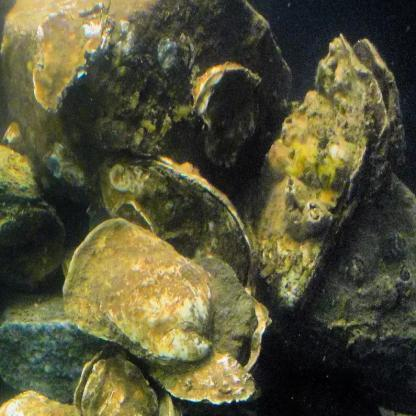3: (102, 154, 252, 289), (189, 62, 260, 167), (74, 343, 159, 416)
Oyster-Closed: (250, 34, 385, 314), (256, 175, 416, 407)
Oyster-Open: (59, 0, 293, 205), (62, 218, 213, 363), (32, 10, 116, 112), (353, 39, 404, 171), (193, 260, 257, 362), (150, 348, 254, 403), (0, 145, 43, 200), (0, 393, 78, 416), (158, 395, 181, 416)
